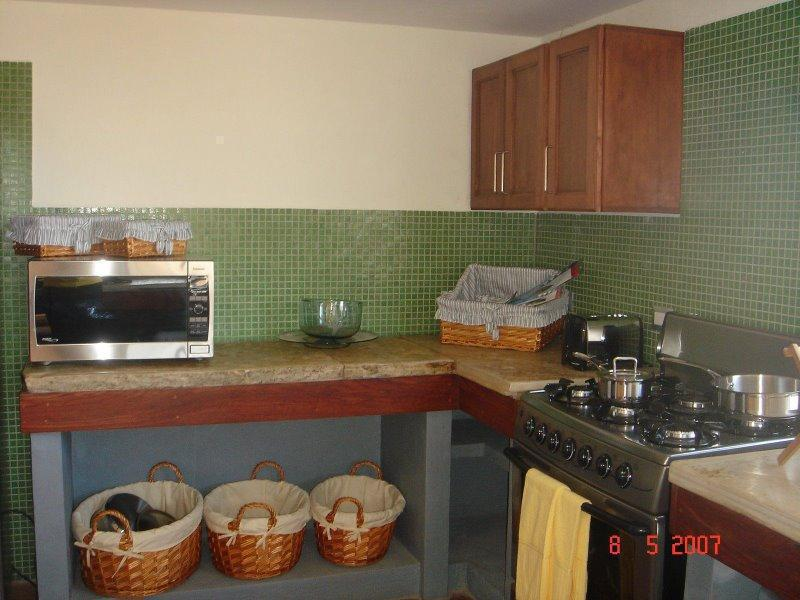Electrodomestico: (523, 377, 673, 590)
